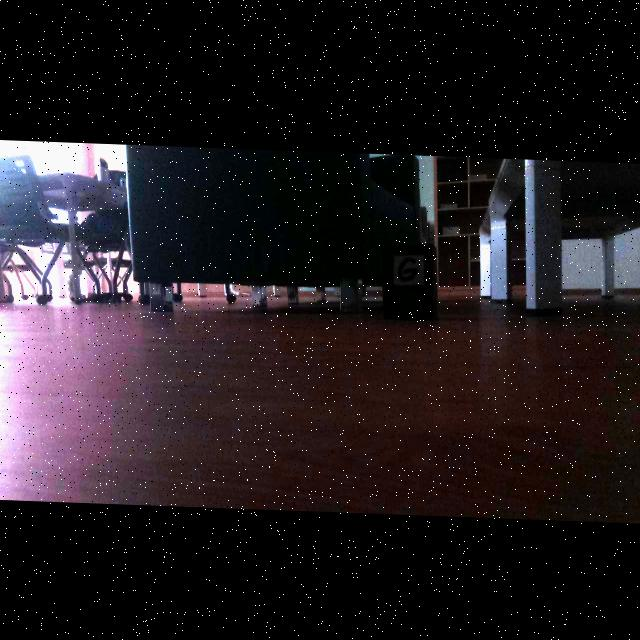G: (399, 254, 418, 279)
